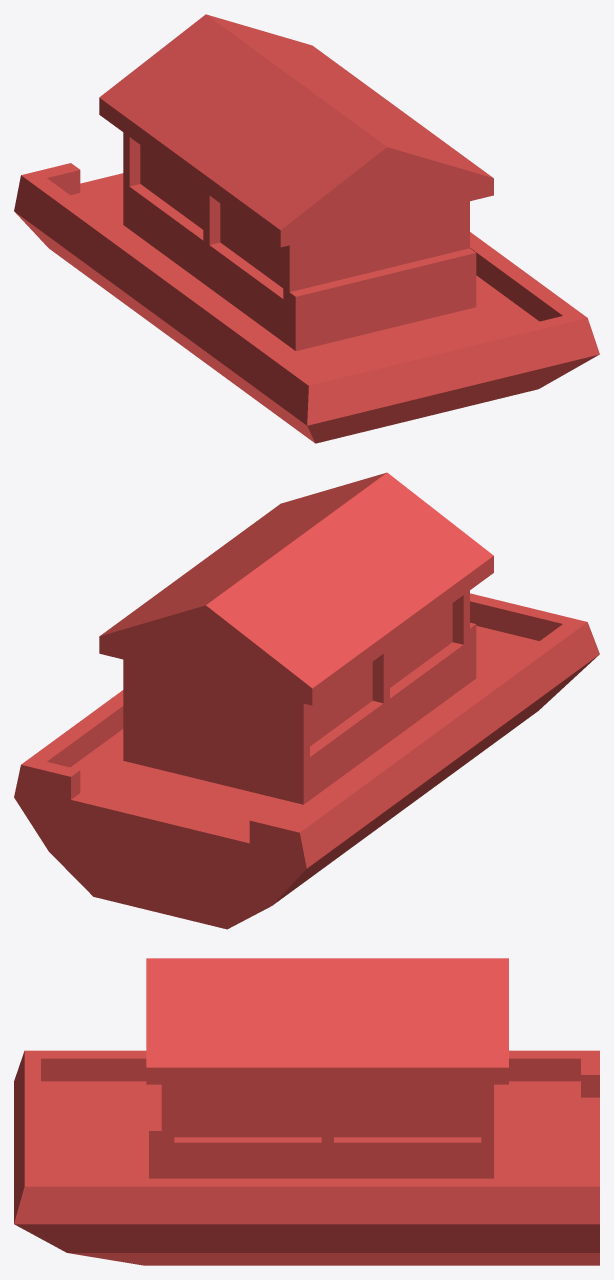
The model's file is watercraftpack_025.glb.
The picture shows the model from 3 angles, top to bottom: view 1: azimuth 30°, elevation 25°; view 2: azimuth 150°, elevation 25°; view 3: azimuth 270°, elevation 25°; orthographic projection.
Parts seen in each view (by area): view 1: Mesh1 Group1 Model; view 2: Mesh1 Group1 Model; view 3: Mesh1 Group1 Model.
Boxes of the visible parts, x1,y1,x2,y2 form: Mesh1 Group1 Model: (14,14,599,443); Mesh1 Group1 Model: (14,472,599,929); Mesh1 Group1 Model: (14,958,599,1265).
Size of the model in its own units: 2.68 by 2.4 by 4.64.
